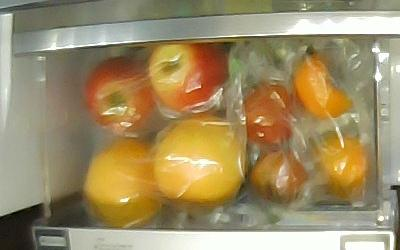apple_vinyl: (148, 43, 228, 112), (86, 57, 155, 132)
grapefruit_vinyl: (155, 114, 247, 203), (83, 138, 160, 228)
persimmon_vinyl: (293, 52, 352, 120), (311, 135, 367, 200)
prune_vinyl: (242, 83, 292, 144), (250, 151, 308, 202)
